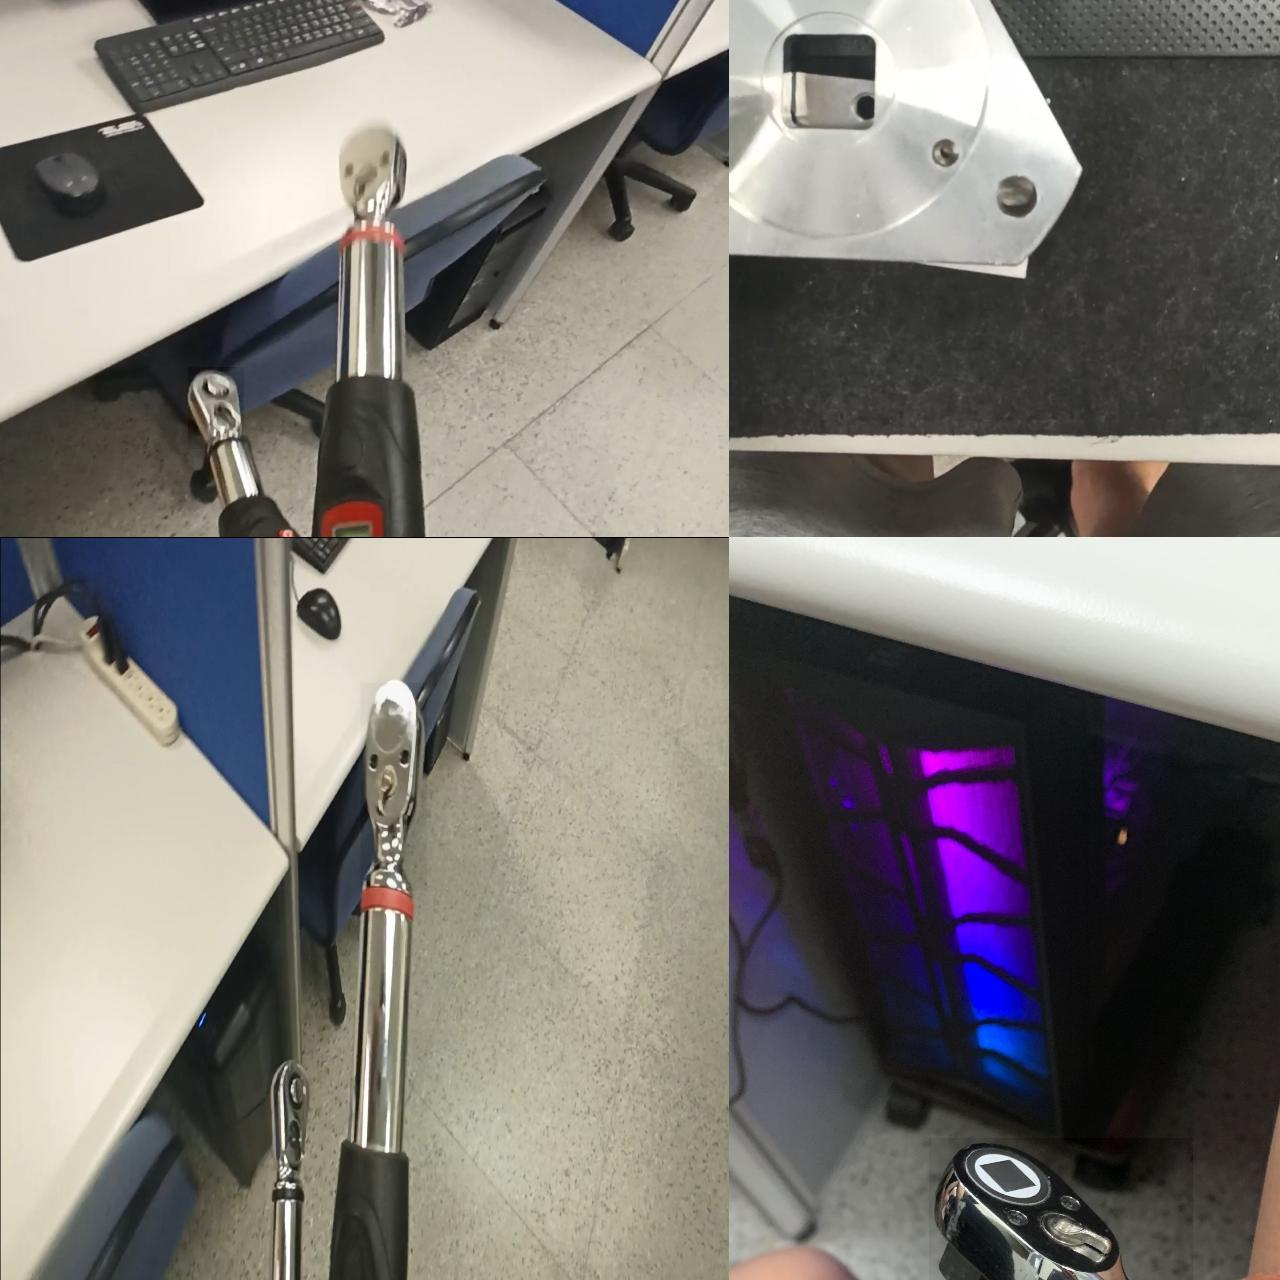Tool: (928, 1137, 1192, 1280), (360, 681, 425, 890), (263, 1056, 311, 1187), (188, 366, 243, 448)
